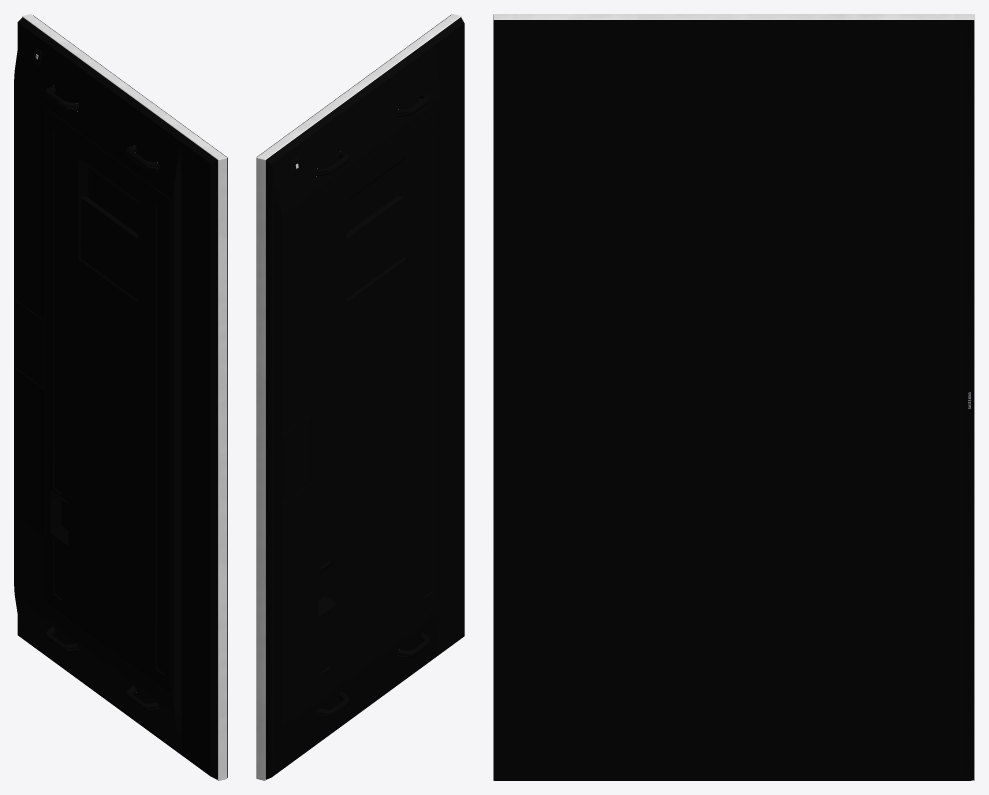
File: TVSamsung.obj
3 renders of one model, left to right at view 1: azimuth 30°, elevation 25°; view 2: azimuth 150°, elevation 25°; view 3: azimuth 270°, elevation 25°, orthographic. The views are drawn at different scales.
Parts seen in each view (by area): view 1: TVSamsung; view 2: TVSamsung; view 3: TVSamsung.
Part boxes in pixels (x1,y1,x2,y2): TVSamsung: (14, 14, 227, 780); TVSamsung: (256, 14, 464, 780); TVSamsung: (493, 14, 974, 780).
Bounding box in the file's own units: 0.1043 × 1.9 × 1.09.
5 materials, 2 textured.
